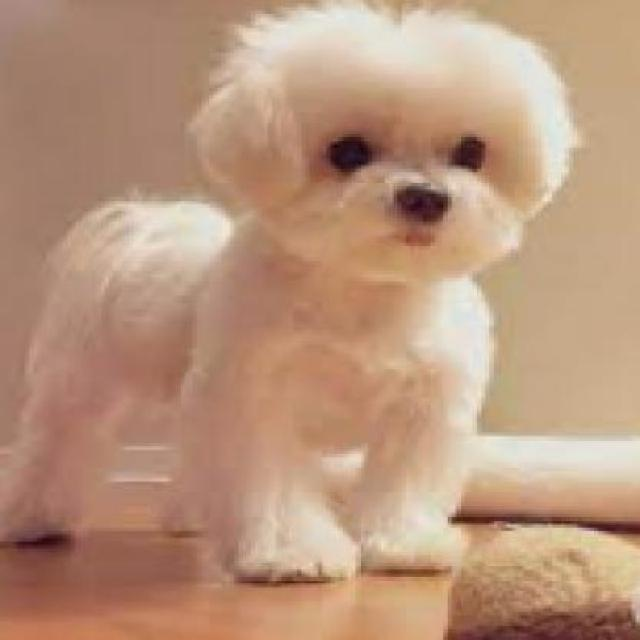Dog: (10, 6, 588, 591)
